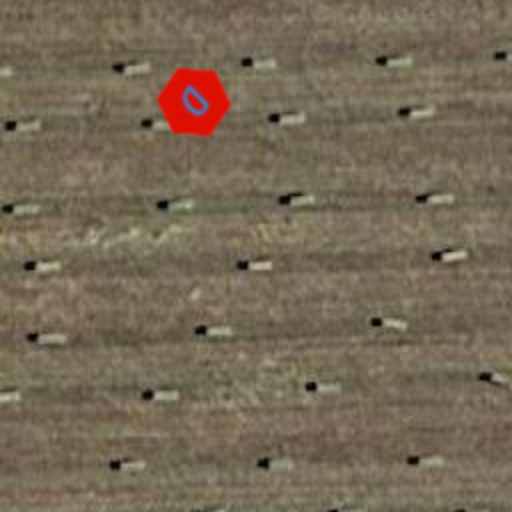hexagon: (140, 48, 248, 156)
